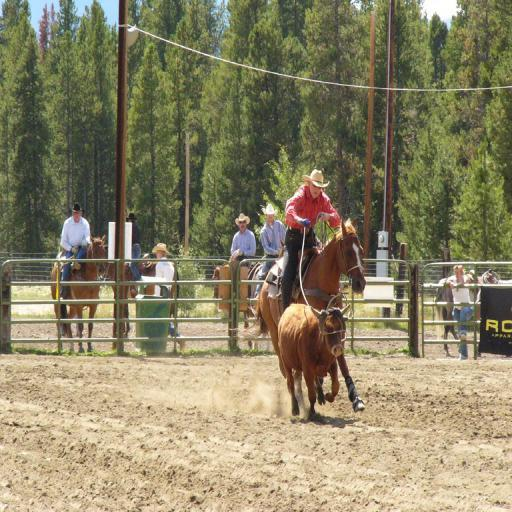Horse: (230, 218, 364, 412), (102, 244, 181, 337), (48, 233, 108, 352), (433, 270, 497, 356), (210, 259, 260, 349)
